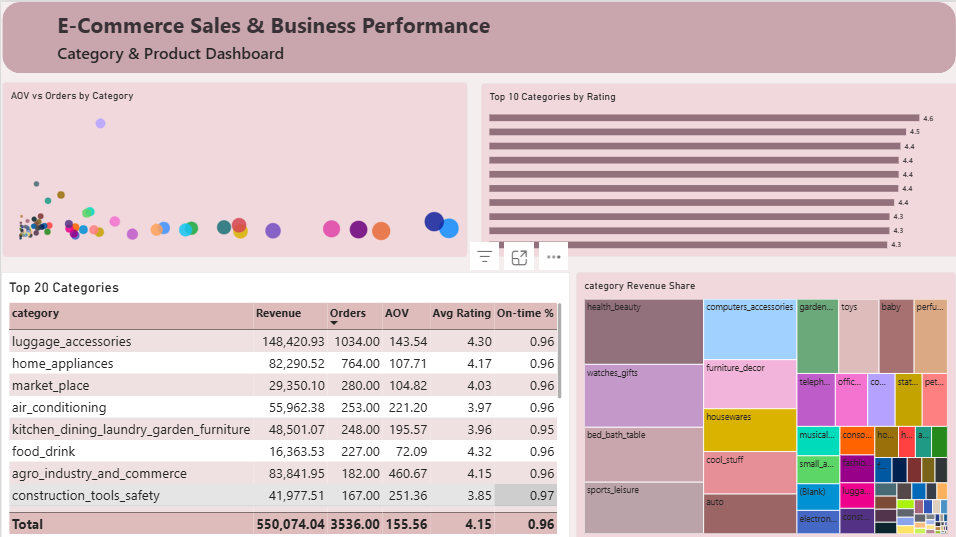

The page's visual inventory and layout, read from the dashboard file:
{"tool":"powerbi","page":{"name":"Category & Product","canvas":[1920,1080],"ordinal":2},"visuals":[{"type":"treemap","title":"category Revenue Share","fields":{"Group":["public bi_fact_sales.category"],"Values":["public bi_fact_sales.Revenue"]},"box":[1150,540,760,540],"z":0},{"type":"scatterChart","title":"AOV vs Orders by Category ","fields":{"Series":["public bi_fact_sales.category"],"Size":["public bi_fact_sales.Revenue"],"X":["public bi_fact_sales.Revenue"],"Y":["public bi_fact_sales.AOV"]},"box":[2.5,160,930,350],"z":1000},{"type":"barChart","title":"Top 10 Categories by Rating","fields":{"Category":["public bi_fact_sales.category"],"Y":["public bi_fact_sales.Avg Rating"]},"box":[960,162.5,960,347.5],"z":2000},{"type":"tableEx","title":"Top 20 Categories","fields":{"Values":["public bi_fact_sales.category","public bi_fact_sales.Revenue","public bi_fact_sales.Orders","public bi_fact_sales.AOV","public bi_fact_sales.Avg Rating","public bi_fact_sales.On-time %"]},"box":[0,540,1137.5,540],"z":3000},{"type":"group","id":"g1","title":"Group 1","box":[2.5,0,1907.5,142.5],"z":3001},{"type":"shape","box":[2.5,0,1907.5,142.5],"z":11000,"group":"g1"},{"type":"textbox","box":[112.6,15.9,1085,63.8],"z":13000,"group":"g1"},{"type":"textbox","box":[112.6,79.7,596.4,47.8],"z":14000,"group":"g1"}]}

Visuals, with their boxes in screenshot pixels (x1, y1, x2, y2), scaled from the page's 1920x1080 canvas onto the 956x537 screenshot:
"category Revenue Share" treemap: [573, 268, 951, 536]
"AOV vs Orders by Category " scatterChart: [1, 80, 464, 254]
"Top 10 Categories by Rating" barChart: [478, 81, 955, 254]
"Top 20 Categories" tableEx: [0, 268, 566, 536]
"Group 1" group: [1, 0, 951, 71]
shape: [1, 0, 951, 71]
textbox: [56, 8, 596, 40]
textbox: [56, 40, 353, 63]
